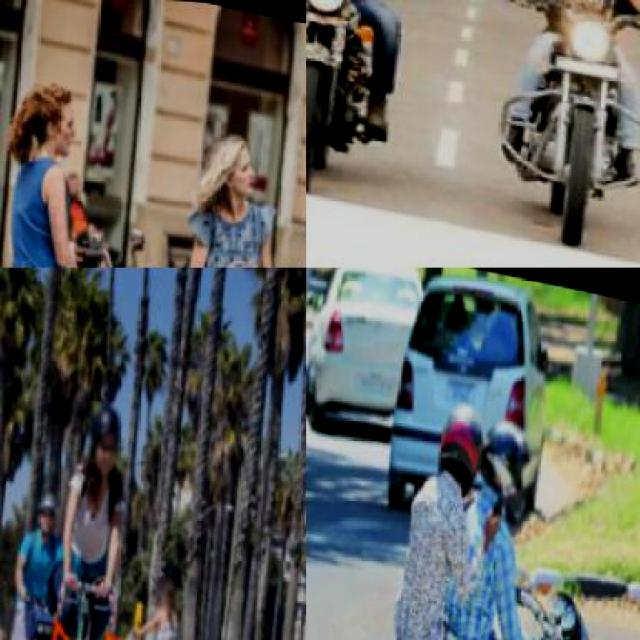With Helmet: (468, 393, 542, 522), (432, 389, 492, 493), (78, 395, 125, 480), (27, 482, 61, 538)
Without Helmet: (18, 72, 88, 159), (150, 572, 178, 613)
